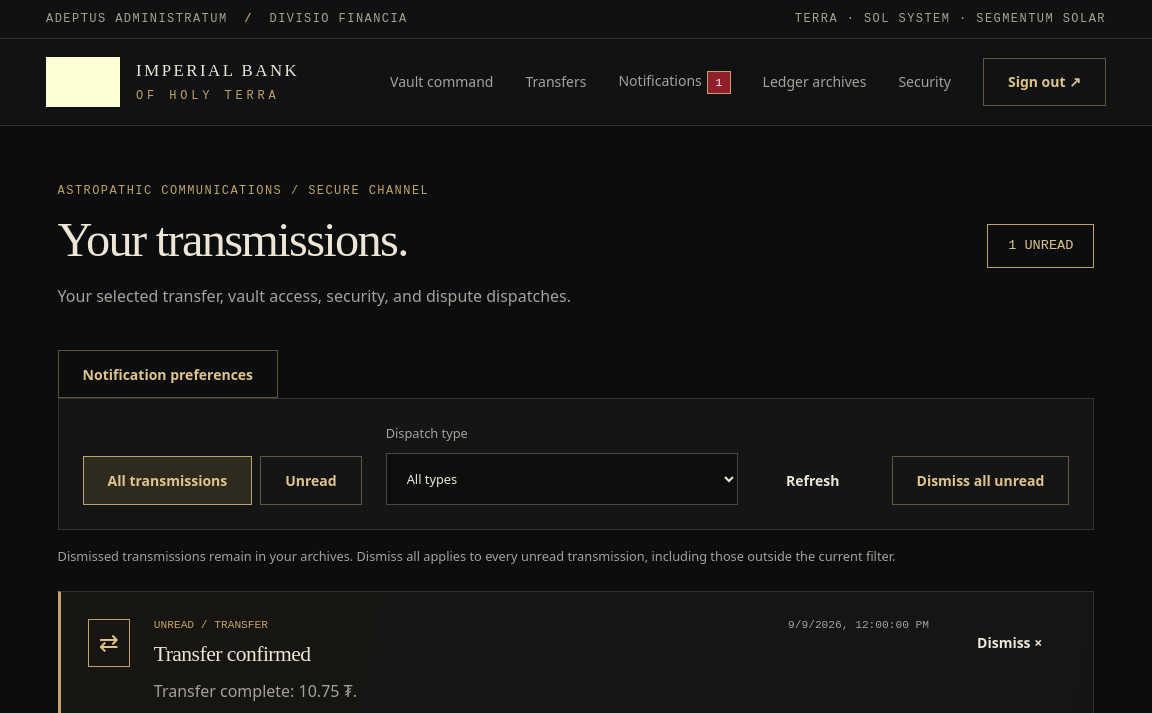
Test: dismiss all refreshes the inbox and reports completion
Expected: the text "Transfer complete: 10.75 ₮." is shown, left=154, top=680, right=357, bottom=702
Click the button "Dismiss all unread".
click(980, 480)  # box left=892, top=456, right=1069, bottom=504
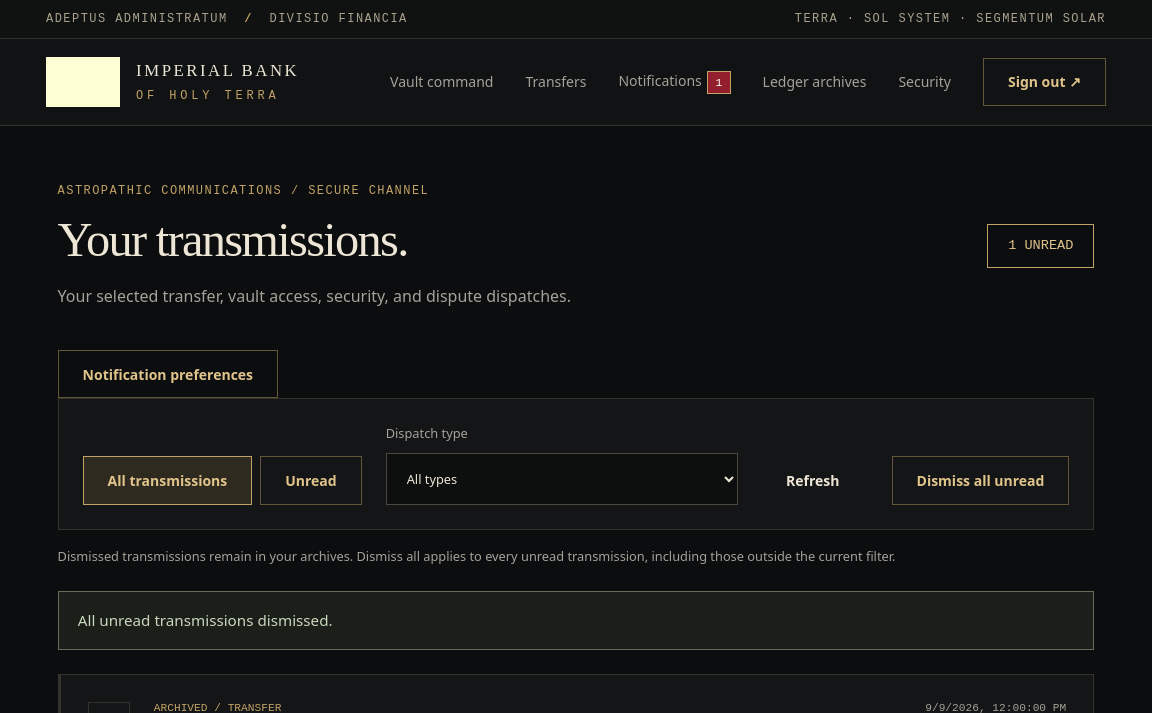
Result: the text "All unread transmissions dismissed." is shown at left=58, top=591, right=1094, bottom=650
